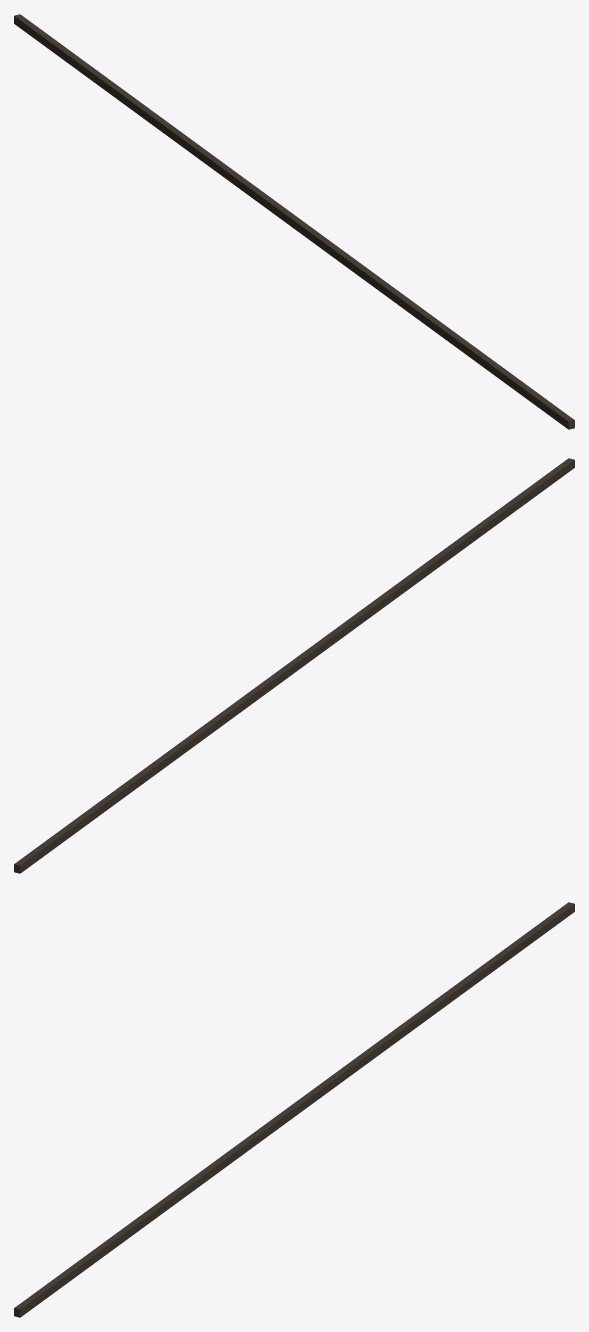
Rendered from pier-stringer.glb.
The picture shows the model from 3 angles, top to bottom: view 1: azimuth 30°, elevation 25°; view 2: azimuth 150°, elevation 25°; view 3: azimuth 330°, elevation 25°; orthographic projection.
Visible parts, largest first — view 1: pier-stringer; view 2: pier-stringer; view 3: pier-stringer.
Part boxes in pixels (left/top/right/bottom): pier-stringer: left=14, top=14, right=574, bottom=429; pier-stringer: left=14, top=458, right=574, bottom=873; pier-stringer: left=14, top=902, right=574, bottom=1317.
Bounding box in the file's own units: 0.18 × 0.22 × 27.6.
